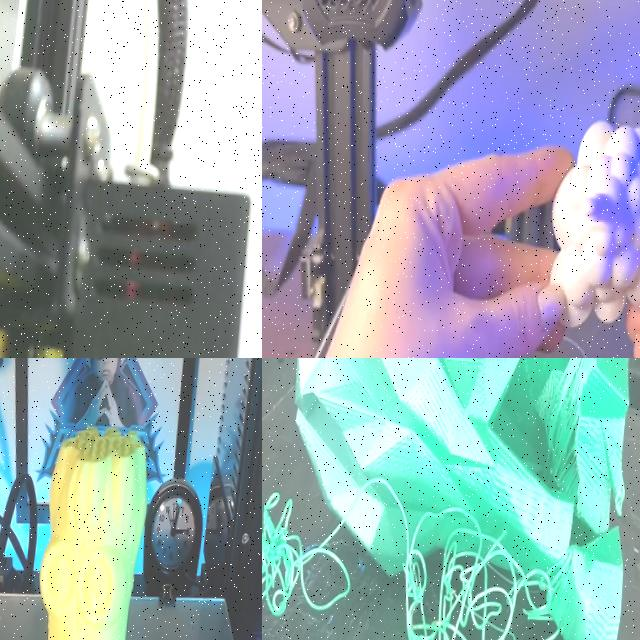spaghetti: (400, 509, 552, 640), (262, 493, 350, 631)
